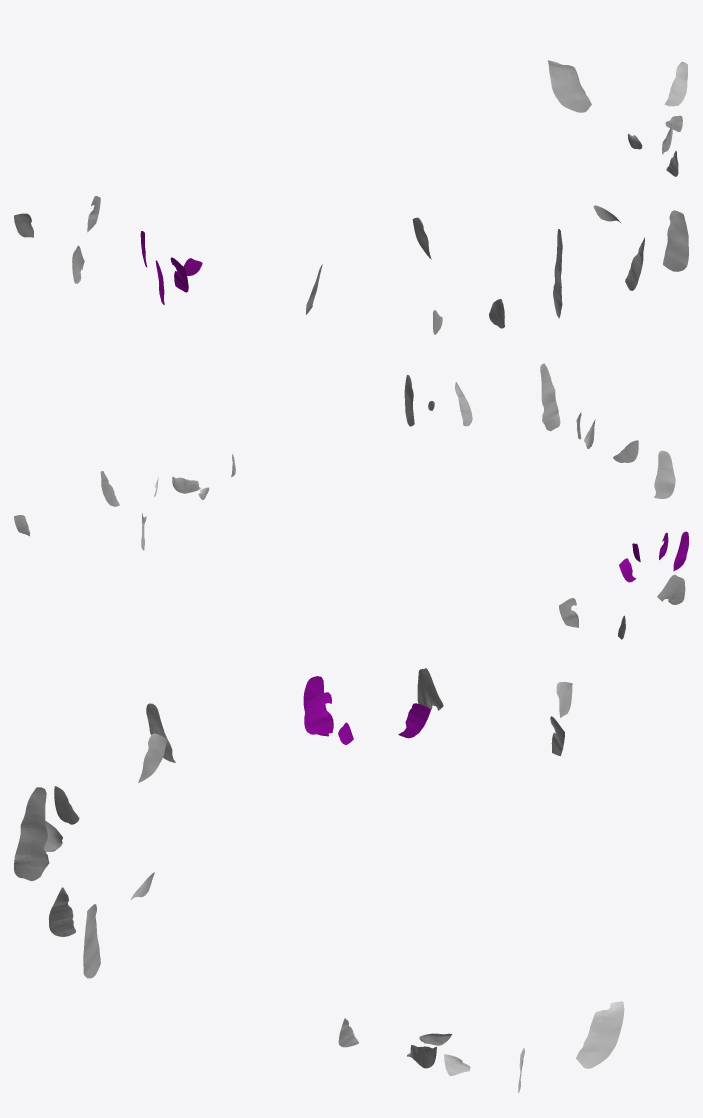
File: Fractures_Fracture_OC.glb
3 views of the same model, one above another, from view 1: azimuth 30°, elevation 25°; view 2: azimuth 150°, elevation 25°; view 3: azimuth 270°, elevation 25° (orthographic). The views are drawn at different scales.
Visible parts, largest first — view 1: 14_Fractures, 10_Fractures, 3_Fractures, 5_Fractures, 8_Fractures, 9_Fracture, 13_Fractures; view 2: 3_Fractures, 9_Fracture, 5_Fractures, 10_Fractures, 7_Fractures, 8_Fractures, 13_Fractures, 14_Fractures; view 3: 14_Fractures, 9_Fracture, 5_Fractures, 10_Fractures, 8_Fractures, 3_Fractures, 13_Fractures.
Boxes of the visible parts, bbox=[...] form: 14_Fractures: bbox=[548, 60, 687, 131]; 10_Fractures: bbox=[593, 205, 688, 290]; 3_Fractures: bbox=[14, 196, 100, 283]; 5_Fractures: bbox=[140, 231, 202, 304]; 8_Fractures: bbox=[412, 217, 504, 334]; 9_Fracture: bbox=[553, 229, 562, 318]; 13_Fractures: bbox=[627, 122, 678, 176]; 3_Fractures: bbox=[559, 574, 685, 639]; 9_Fracture: bbox=[540, 363, 560, 431]; 5_Fractures: bbox=[619, 531, 688, 582]; 10_Fractures: bbox=[404, 375, 472, 426]; 7_Fractures: bbox=[654, 450, 675, 498]; 8_Fractures: bbox=[576, 412, 638, 462]; 13_Fractures: bbox=[172, 454, 235, 499]; 14_Fractures: bbox=[100, 471, 158, 550]; 14_Fractures: bbox=[444, 1001, 624, 1092]; 9_Fracture: bbox=[14, 787, 49, 881]; 5_Fractures: bbox=[303, 676, 430, 744]; 10_Fractures: bbox=[49, 872, 154, 978]; 8_Fractures: bbox=[44, 733, 167, 852]; 3_Fractures: bbox=[417, 668, 572, 756]; 13_Fractures: bbox=[338, 1018, 452, 1068].
Size of the model in its own units: 62.01 by 9.7 by 43.88.
